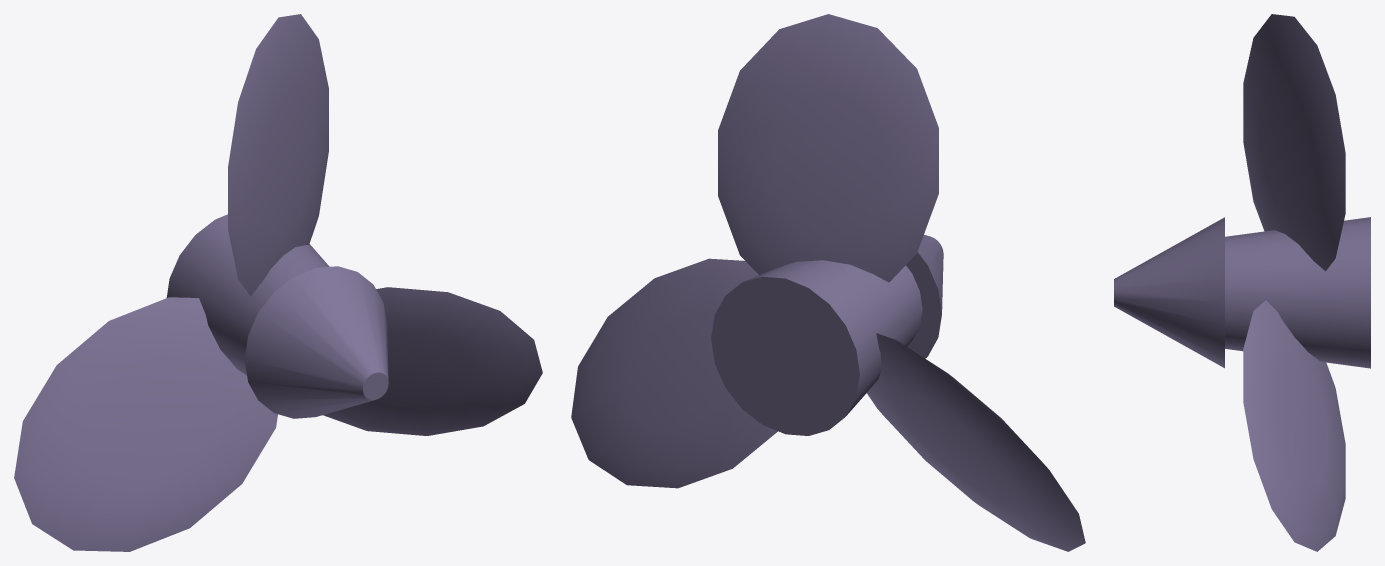
File: prop.obj
The picture shows the model from 3 angles, left to right: view 1: azimuth 30°, elevation 25°; view 2: azimuth 150°, elevation 25°; view 3: azimuth 270°, elevation 25°; orthographic projection. The views are drawn at different scales.
Visible parts, largest first — view 1: prop; view 2: prop; view 3: prop.
Boxes of the visible parts, left/top/right/bottom form: prop: left=14, top=14, right=542, bottom=551; prop: left=571, top=14, right=1085, bottom=551; prop: left=1114, top=14, right=1370, bottom=551.
Bounding box in the file's own units: 0.0778 × 0.0703 × 0.037.
